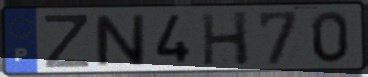0: (309, 9, 352, 66)
4: (153, 12, 194, 67)
7: (255, 9, 300, 67)
H: (199, 9, 251, 67)
N: (91, 13, 148, 69)
Z: (42, 13, 92, 70)
